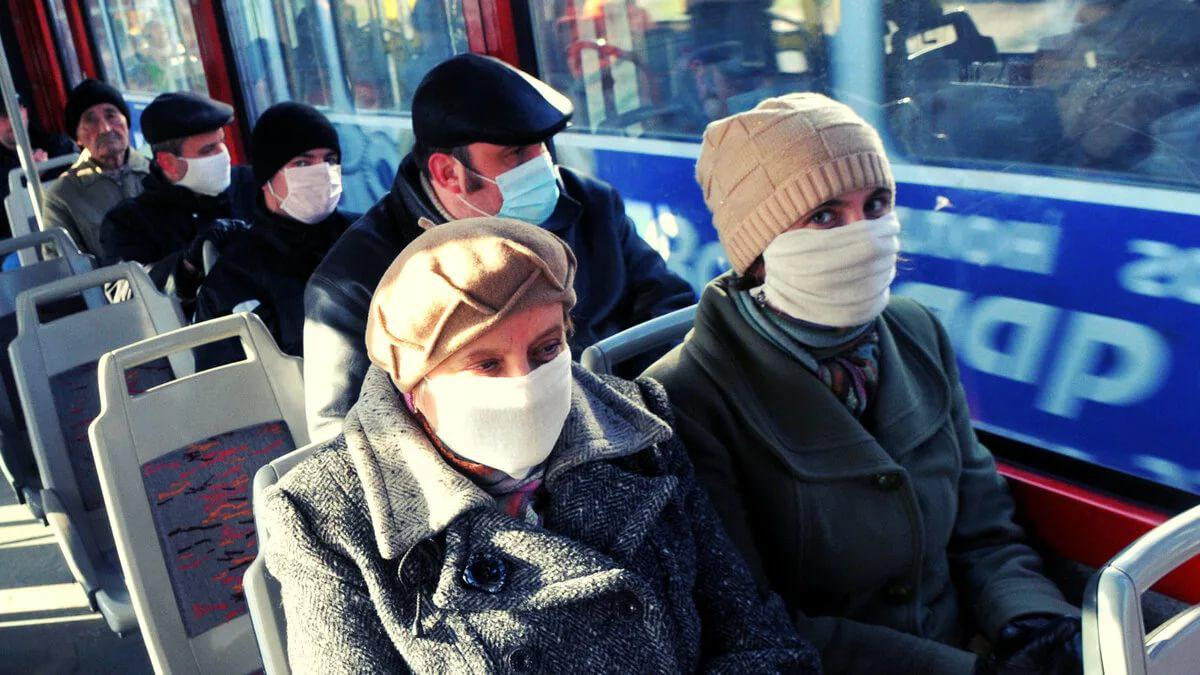mask: (429, 295, 573, 476), (467, 127, 559, 229), (269, 133, 345, 225), (168, 122, 227, 191)
none: (85, 99, 132, 165)
poor: (765, 167, 900, 326)
